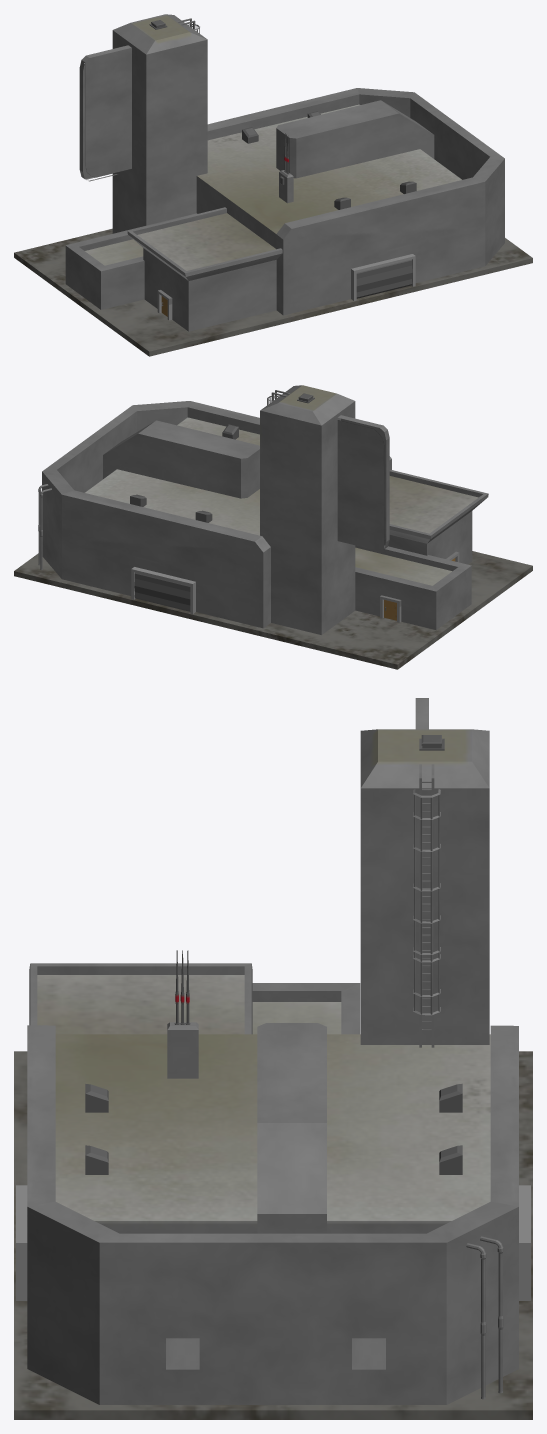
Rendered from Edificio12.fbx.
The picture shows the model from 3 angles, top to bottom: view 1: azimuth 30°, elevation 25°; view 2: azimuth 150°, elevation 25°; view 3: azimuth 270°, elevation 25°; orthographic projection. The views are drawn at different scales.
Visible parts, largest first — view 1: LOD_0; view 2: LOD_0; view 3: LOD_0.
Boxes of the visible parts, box(x1,y1,x2,y2) form: LOD_0: box(14, 14, 532, 356); LOD_0: box(14, 385, 532, 669); LOD_0: box(14, 698, 532, 1419).
Size of what is drawn, in the model's own units: 3910 by 2197 by 2388.
